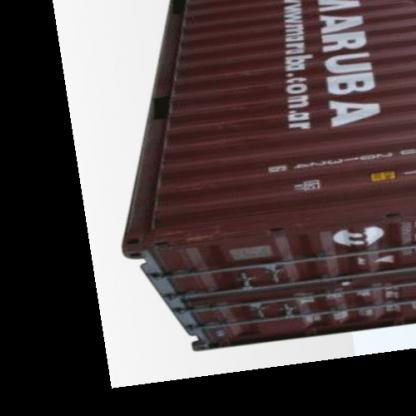Damage: (219, 48, 311, 136), (166, 219, 242, 247)
